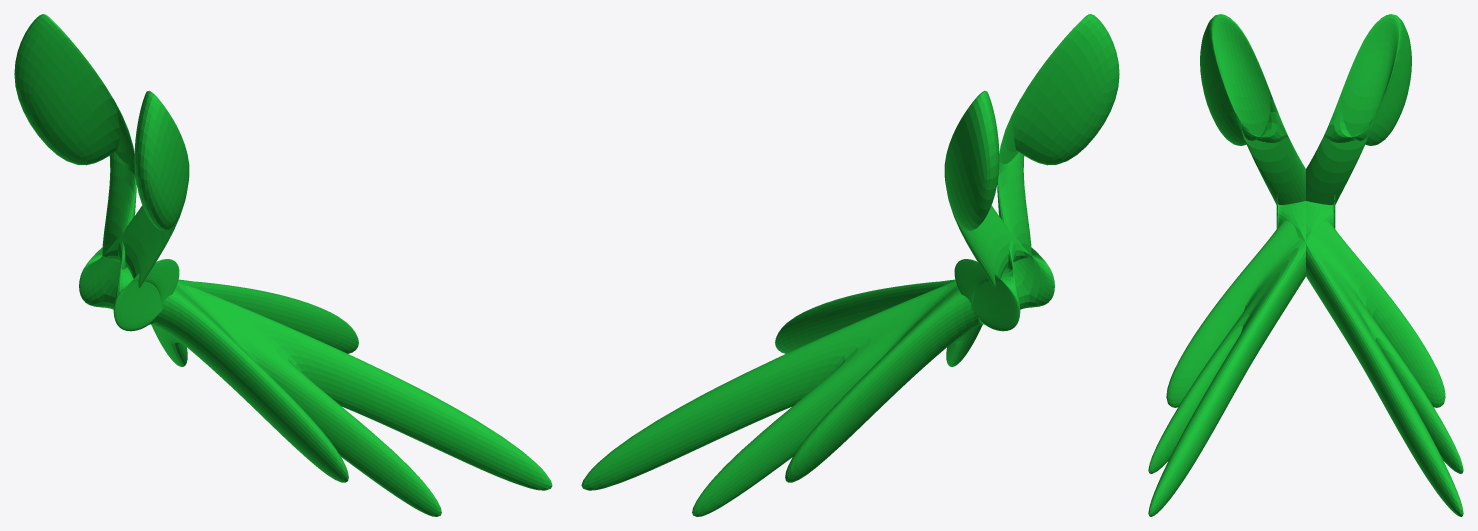
The model's file is Creaturestruc16.obj.
3 renders of one model, left to right at view 1: azimuth 30°, elevation 25°; view 2: azimuth 150°, elevation 25°; view 3: azimuth 270°, elevation 25°, orthographic. The views are drawn at different scales.
Visible parts, largest first — view 1: Cube_Cube.017; view 2: Cube_Cube.017; view 3: Cube_Cube.017.
Part boxes in pixels (<box>): Cube_Cube.017: <box>14,14,552,516</box>; Cube_Cube.017: <box>581,14,1119,516</box>; Cube_Cube.017: <box>1148,14,1463,516</box>.
Bounding box in the file's own units: 15.23 × 17.41 × 13.66.
